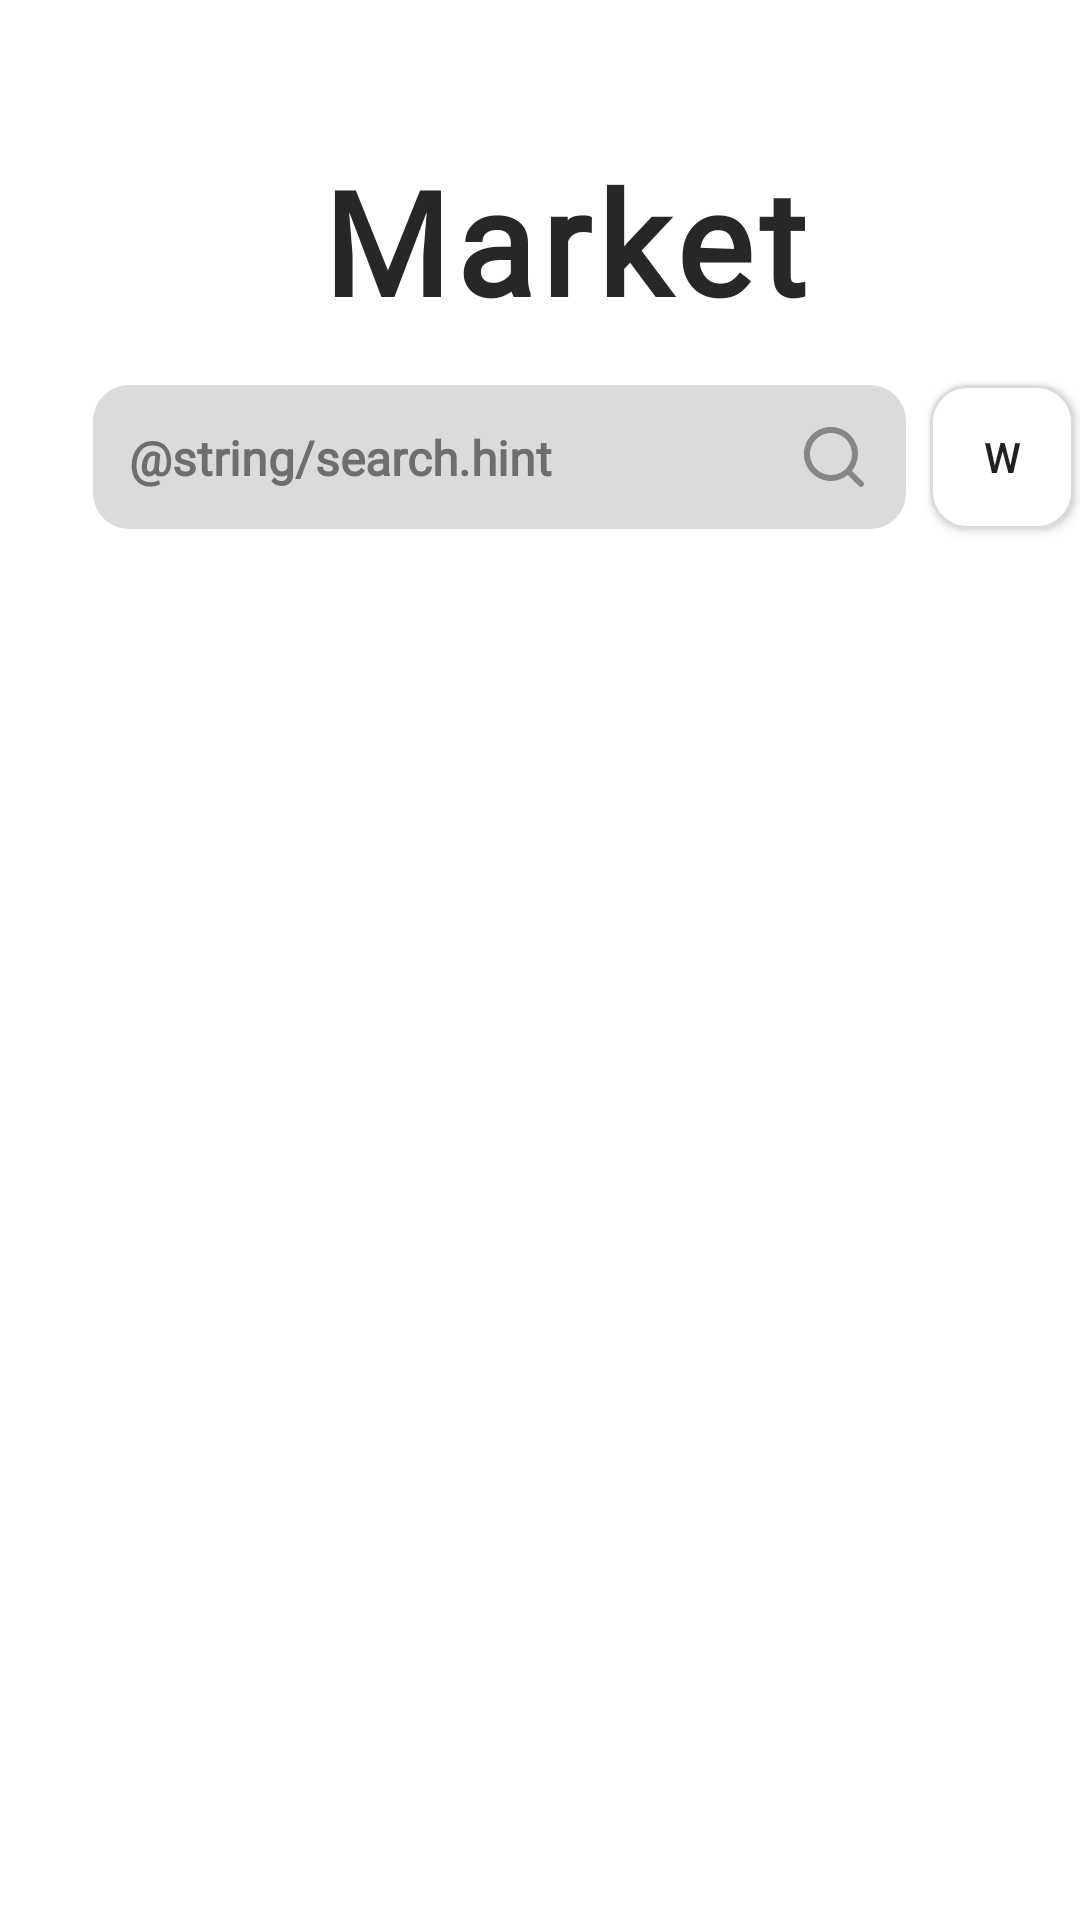

Icon bounding boxes for this 1080px x 1920px phone screenshot, format (x1, y1, x2, y2):
search: (804, 427, 864, 487)
